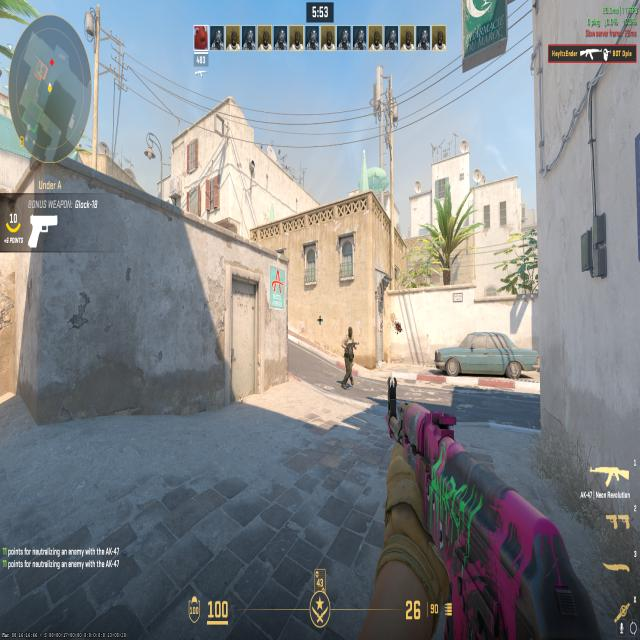t: (340, 322, 356, 395)
